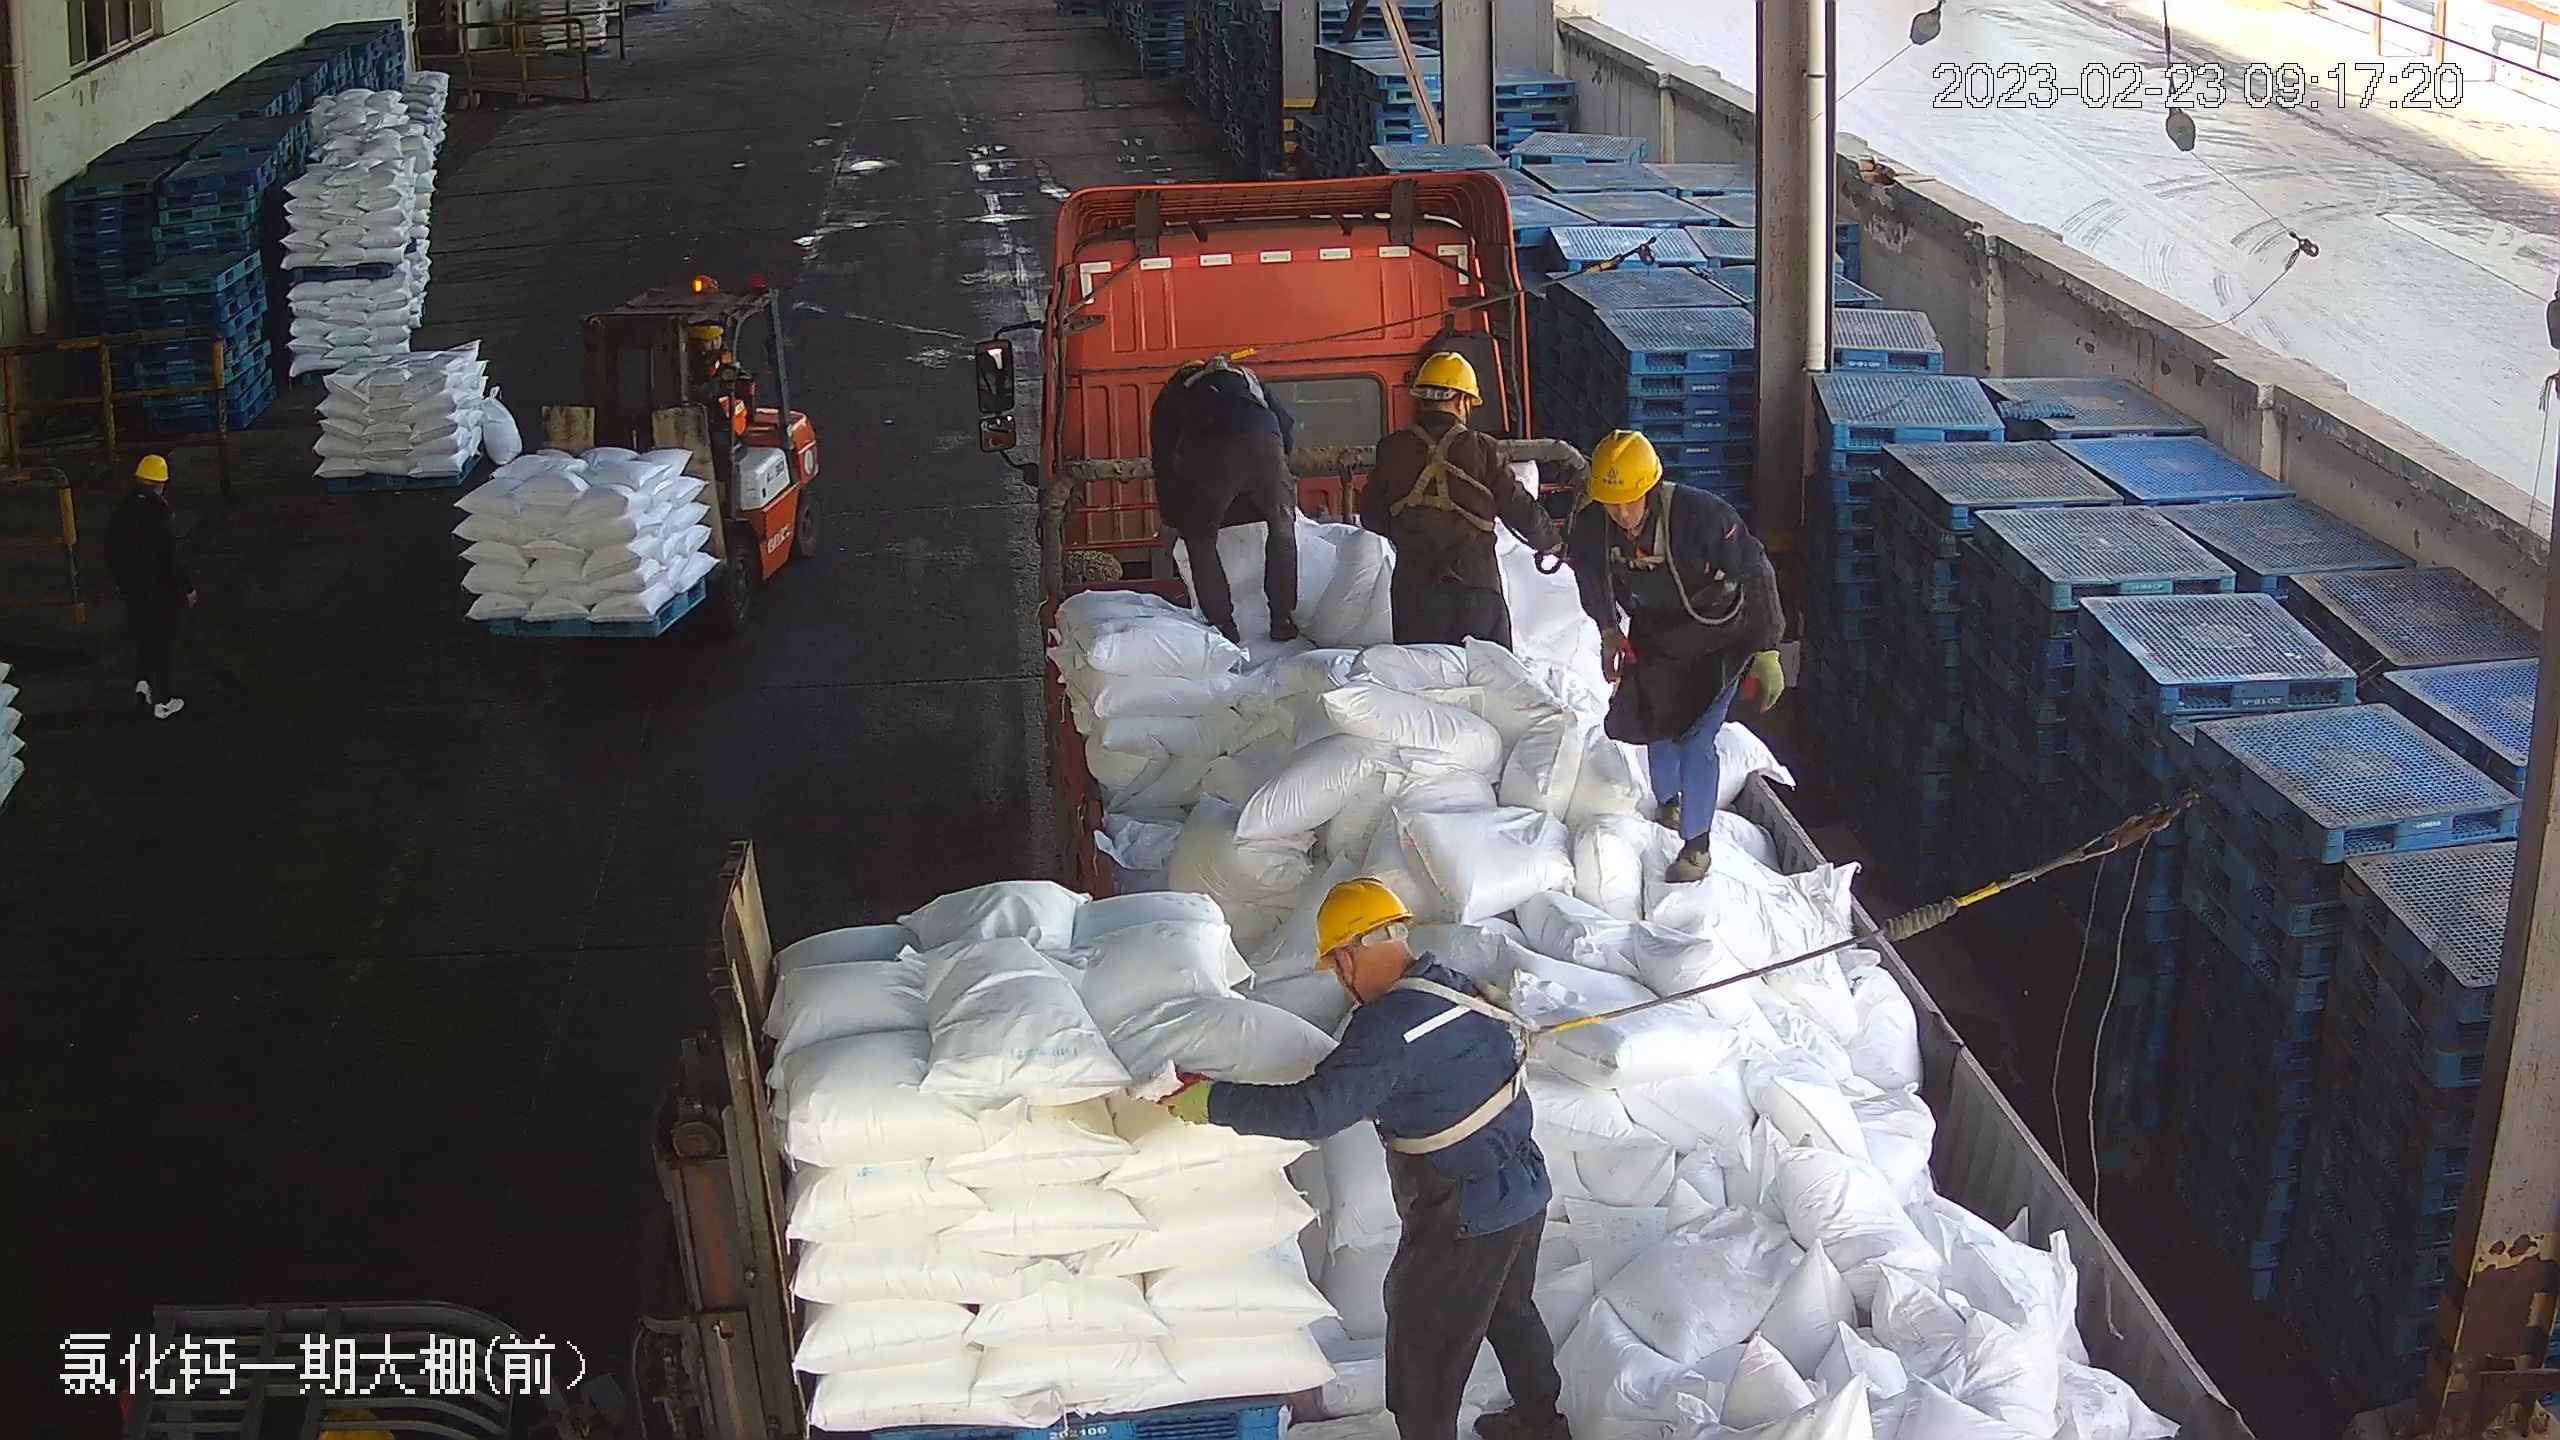belt: (1384, 972, 1606, 1142), (1396, 425, 1488, 521), (1604, 473, 1683, 573), (1182, 350, 1260, 405)
head: (1295, 881, 1499, 1092), (1575, 428, 1736, 574), (1383, 355, 1496, 482), (109, 452, 180, 542)
helmet: (1306, 877, 1414, 966), (1582, 427, 1663, 501), (1410, 347, 1485, 399), (131, 451, 172, 482), (694, 322, 730, 345)
people: (1159, 879, 1564, 1433), (1571, 431, 1793, 893), (1362, 355, 1539, 657), (1142, 351, 1313, 652), (106, 449, 202, 728)
truck: (979, 172, 2263, 1431)
